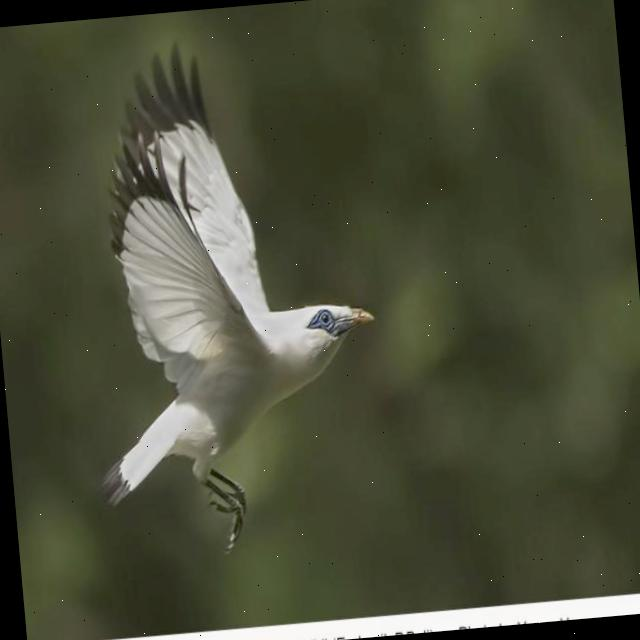Jalak Bali: (18, 14, 410, 598)
